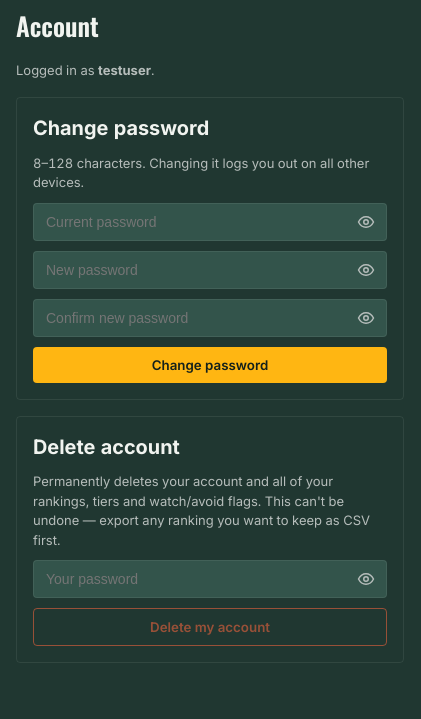
Test: AccountPage › shows the error and stays on the page when deleting fails
Type "wrong password" into the password field labelled "Your password" at (210, 579), box [33,560,387,598]
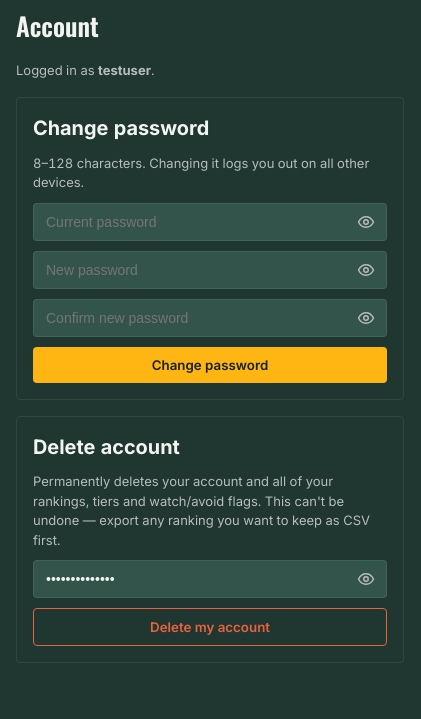
Click the button "Delete my account" at (210, 627), box [33,608,387,646]
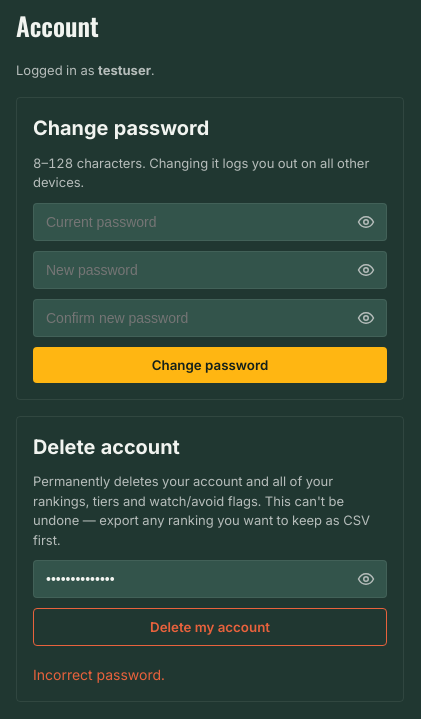
Check: the button "Delete my account" is enabled, box [33,608,387,646]
Check: the message reads "Incorrect password.", box [33,666,165,683]
